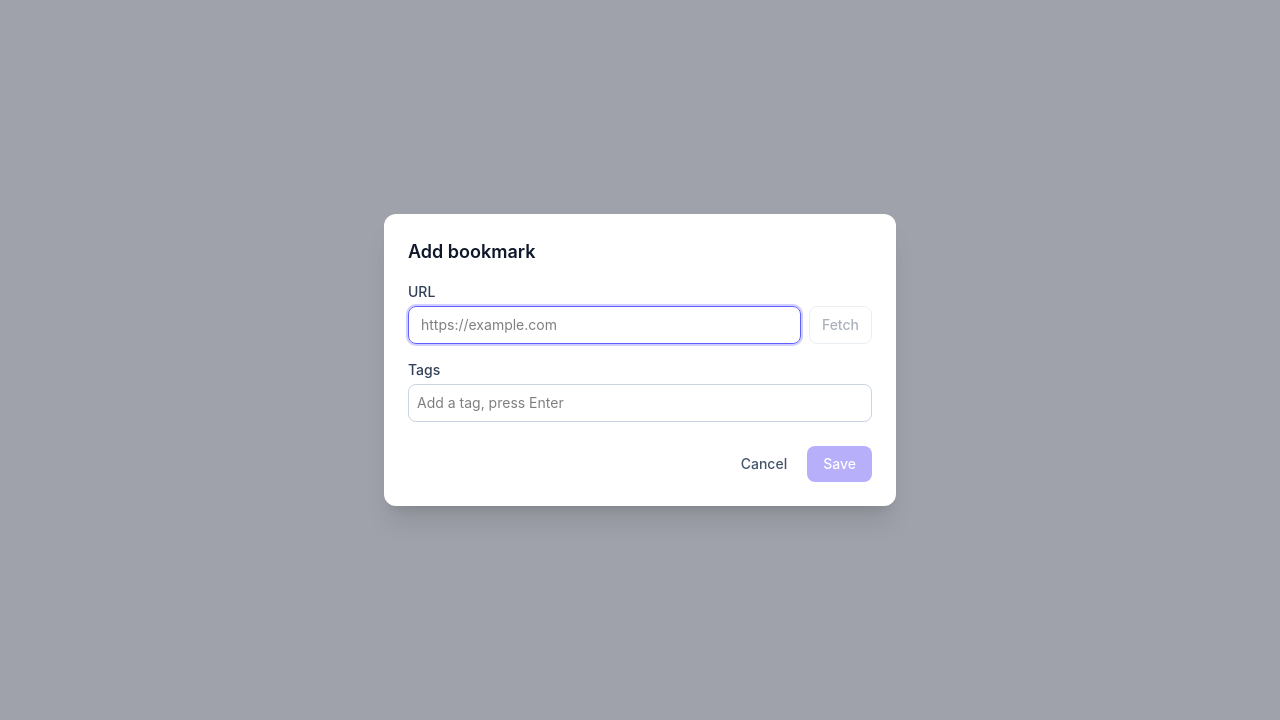
Test: save is disabled until a url is entered
The width and height of the screenshot is (1280, 720).
Expected: the button "Save" is disabled, top-left (807, 446), bottom-right (872, 482)
Type "https://x.test" into the field with placeholder "https://example.com" at [604, 325], box top-left (408, 306), bottom-right (801, 344)
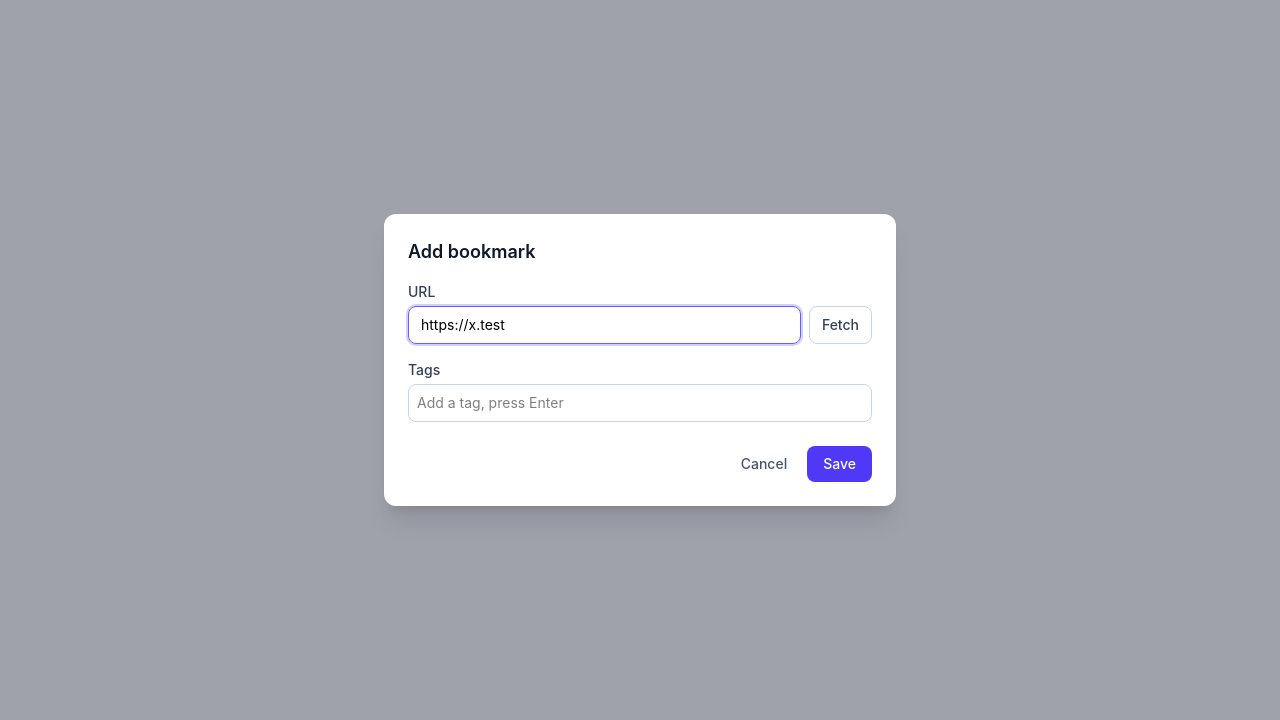
Now the button "Save" is enabled, box top-left (807, 446), bottom-right (872, 482)
